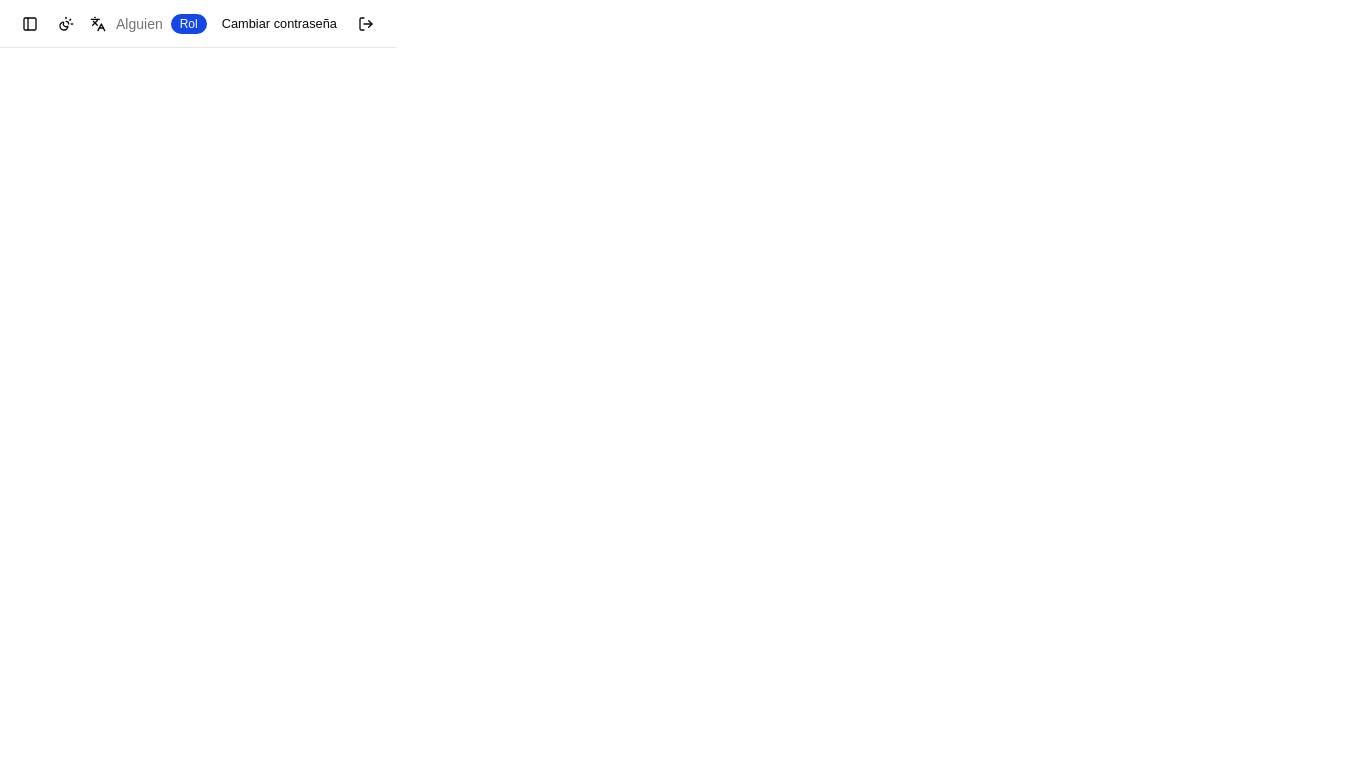
it: Topbar — logout-all › no toca la sesión local si la petición falla
expect the text "Alguien" is shown: met, box [116,16,163,32]
Step 1. Click the button named "Sesión" → [366, 24], box [352,10,380,38]
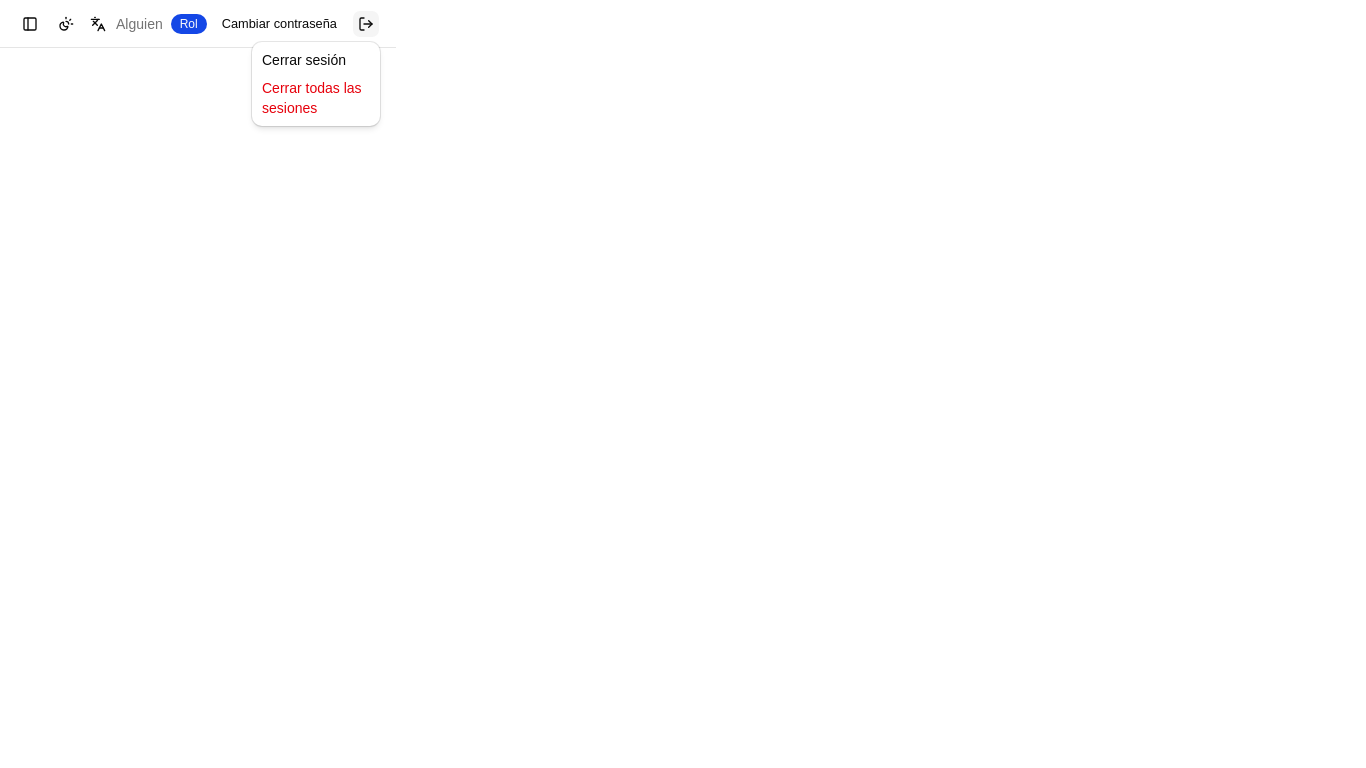
Step 2. Click the menu item "Cerrar todas las sesiones" → [312, 98], box [262,80,362,116]
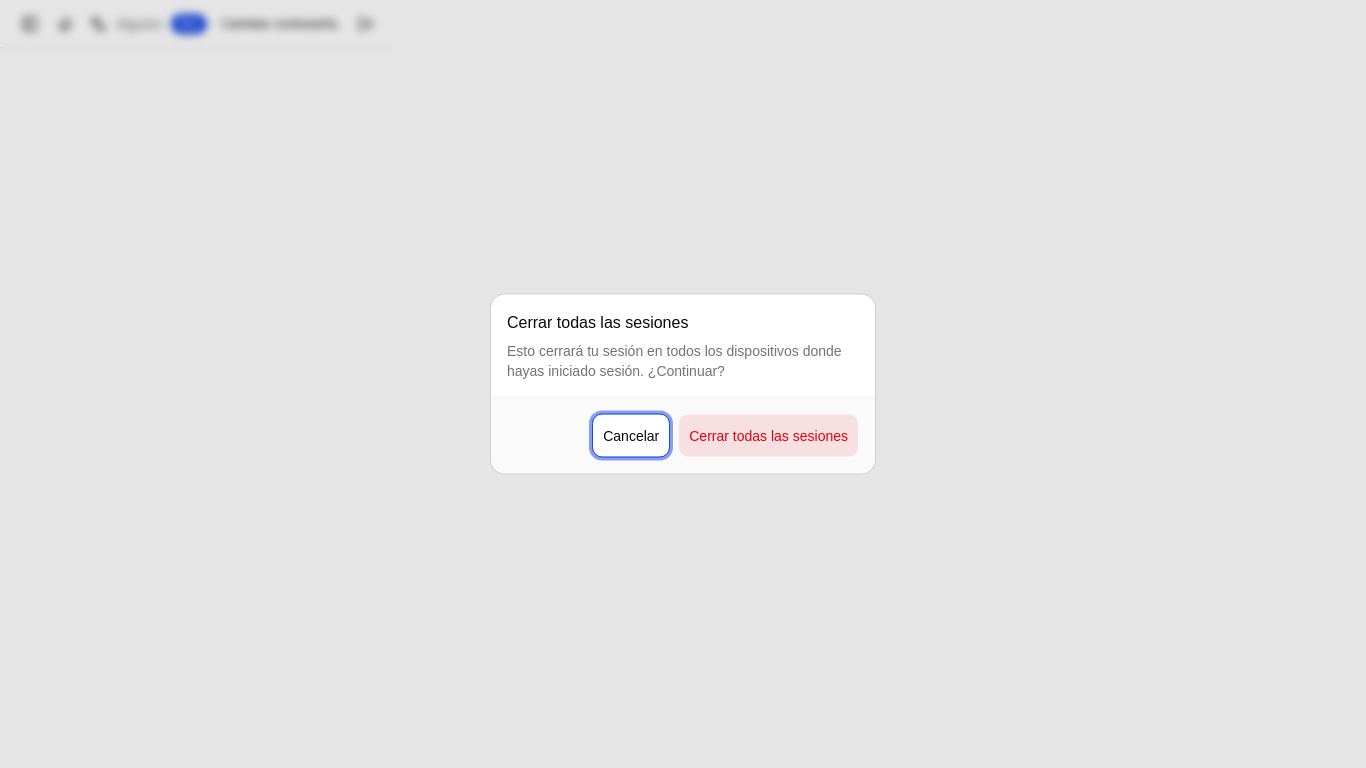
Step 3. Click the button "Cerrar todas las sesiones" → [769, 436], box [678,414,859,458]
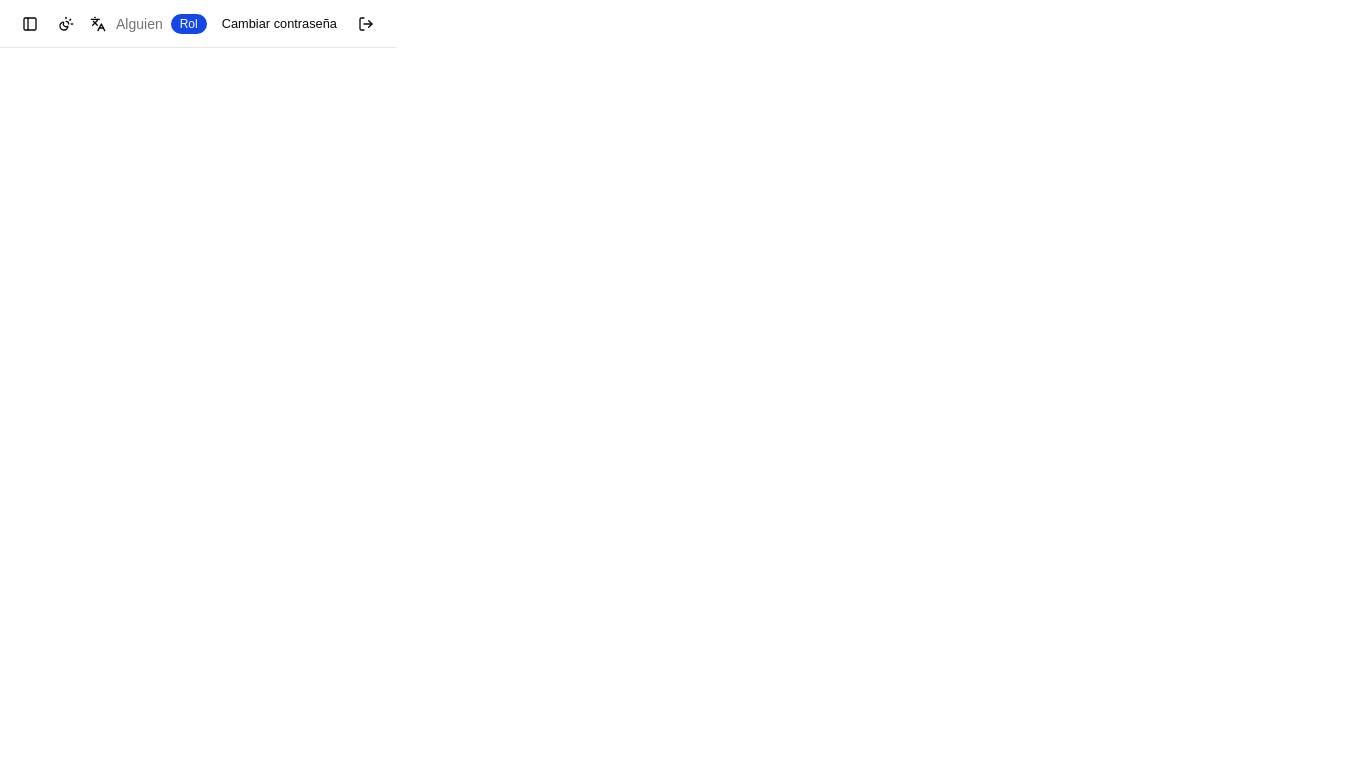
expect the dialog is gone: met
